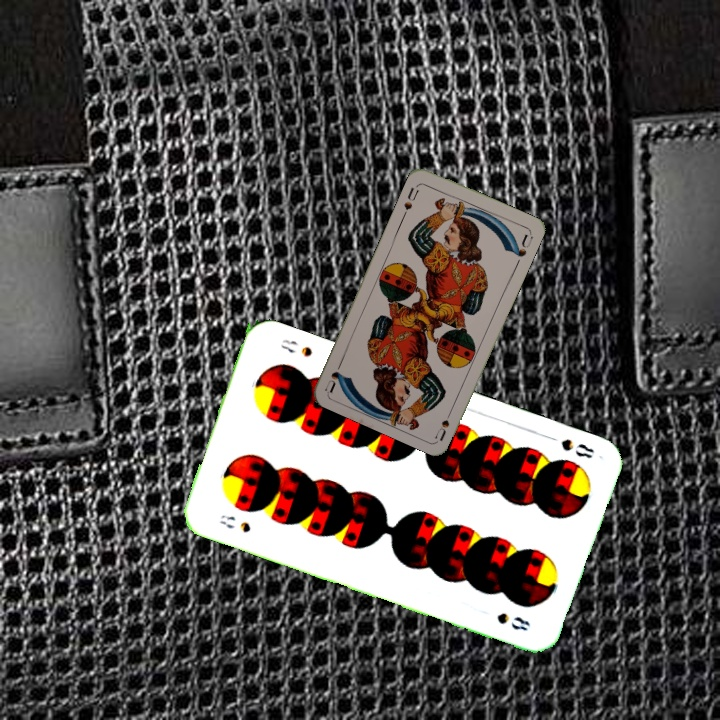S8: (542, 431, 597, 461), (216, 510, 253, 535)
SU: (430, 403, 456, 442), (399, 181, 421, 219)
